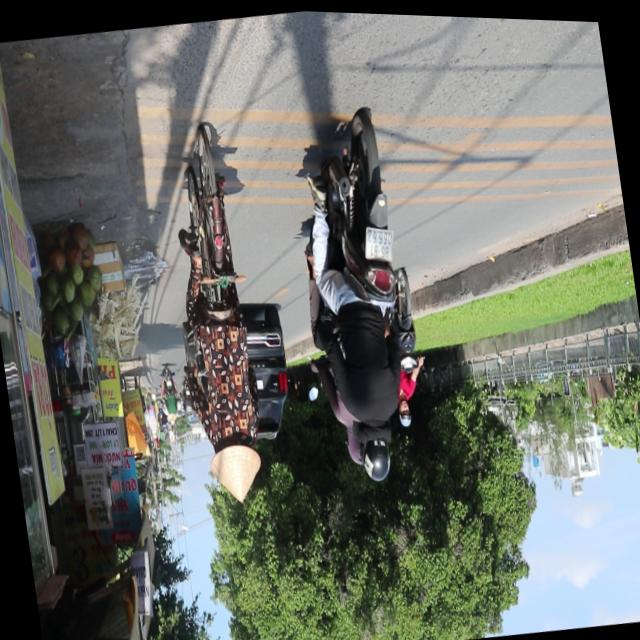helmet: (356, 416, 398, 481), (397, 395, 412, 425)
licenseplate: (281, 106, 433, 489)
nohelmet: (361, 220, 397, 260)
